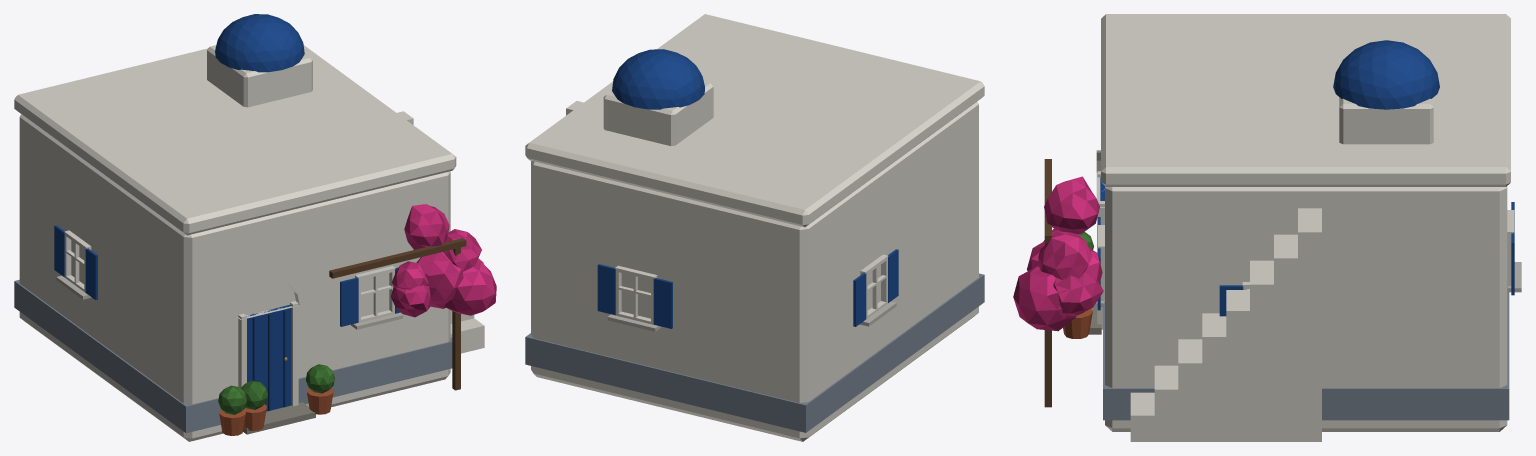
Rendered from house_ege_2.glb.
The picture shows the model from 3 angles, left to right: view 1: azimuth 30°, elevation 25°; view 2: azimuth 150°, elevation 25°; view 3: azimuth 270°, elevation 25°; orthographic projection. The views are drawn at different scales.
Visible parts, largest first — view 1: box; view 2: box; view 3: box.
Boxes of the visible parts, <box> form: box: <box>14,14,496,441</box>; box: <box>525,14,984,441</box>; box: <box>1013,14,1521,441</box>.
Bounding box in the file's own units: 6.93 × 6.07 × 8.09.
